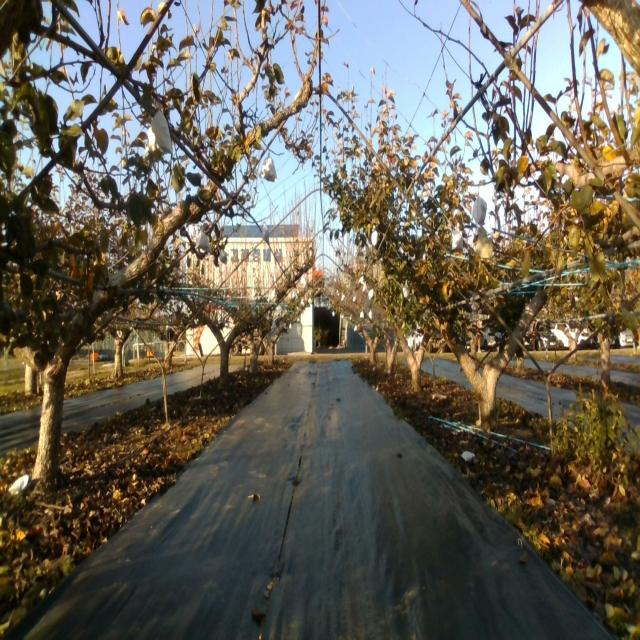pearbags: (146, 110, 174, 155), (259, 152, 278, 185), (472, 196, 487, 227), (195, 227, 212, 253), (451, 226, 464, 252)
